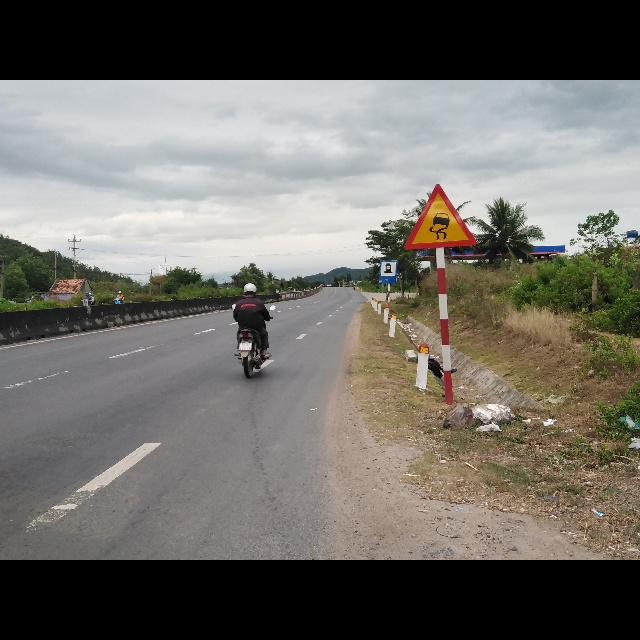Đường trơn trượt: (403, 184, 476, 252)
